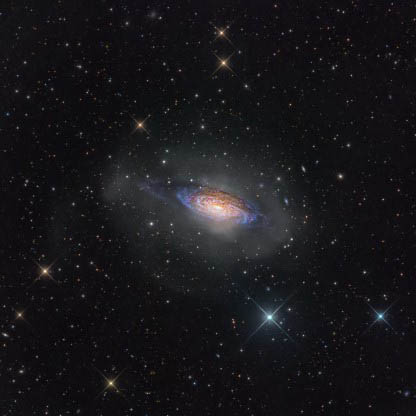NGC 3521: (105, 139, 312, 275)
